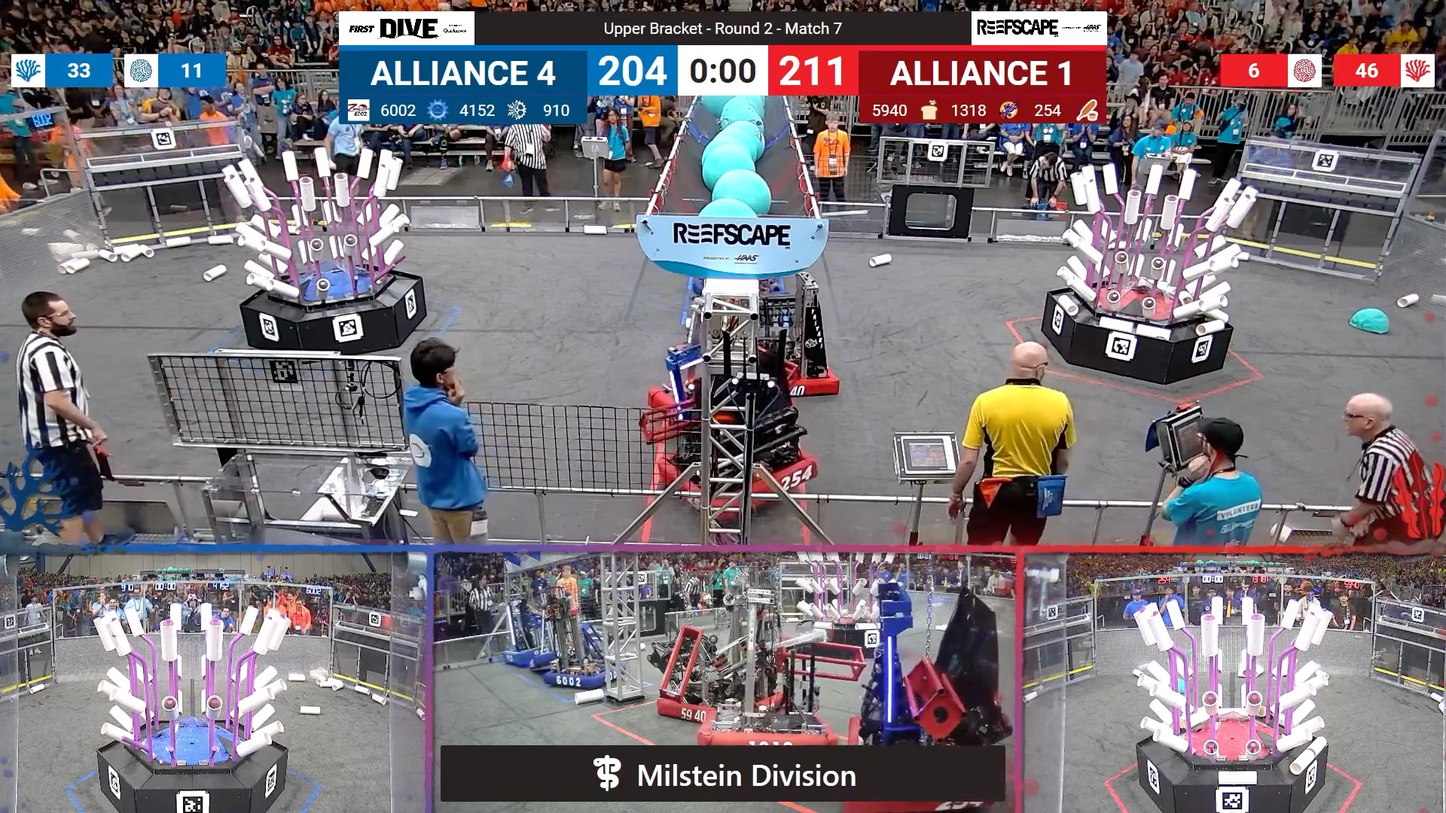bumpers: (641, 431, 821, 518), (698, 711, 840, 748), (770, 357, 847, 401), (531, 661, 618, 689), (655, 696, 723, 723), (500, 651, 567, 672)
